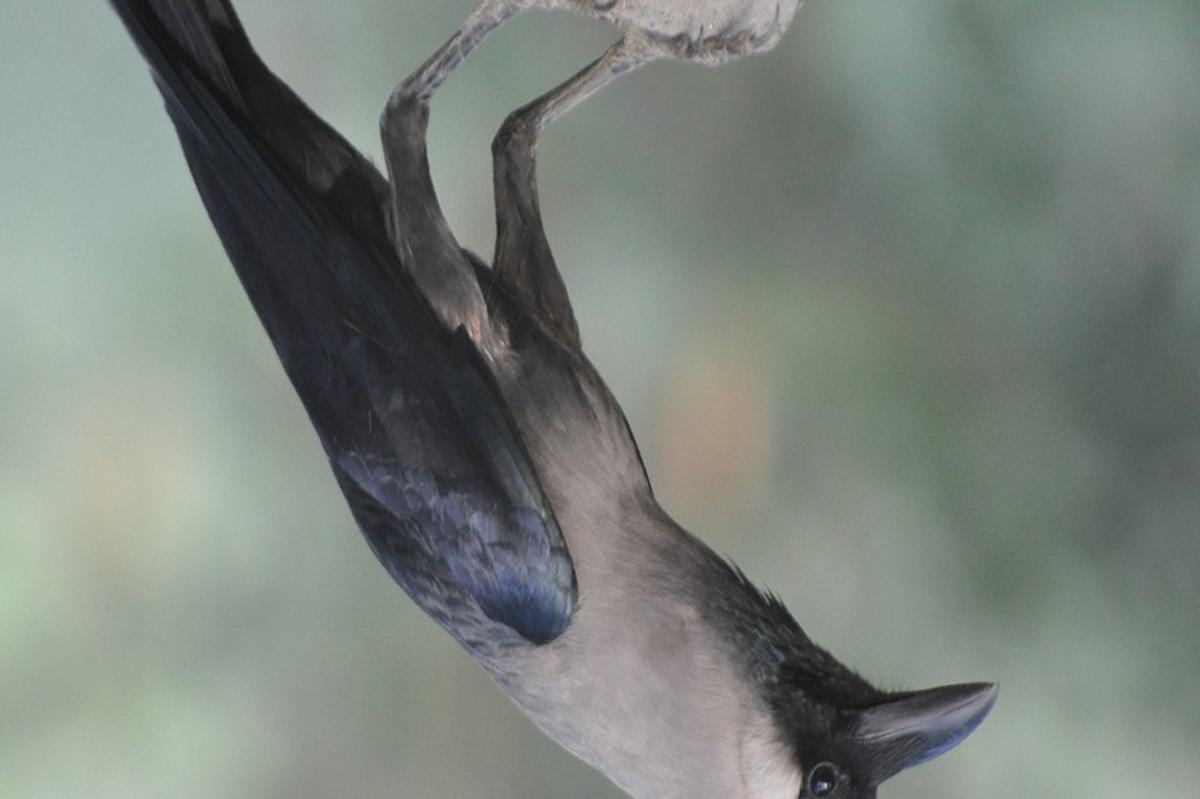crow: (65, 1, 1020, 795)
